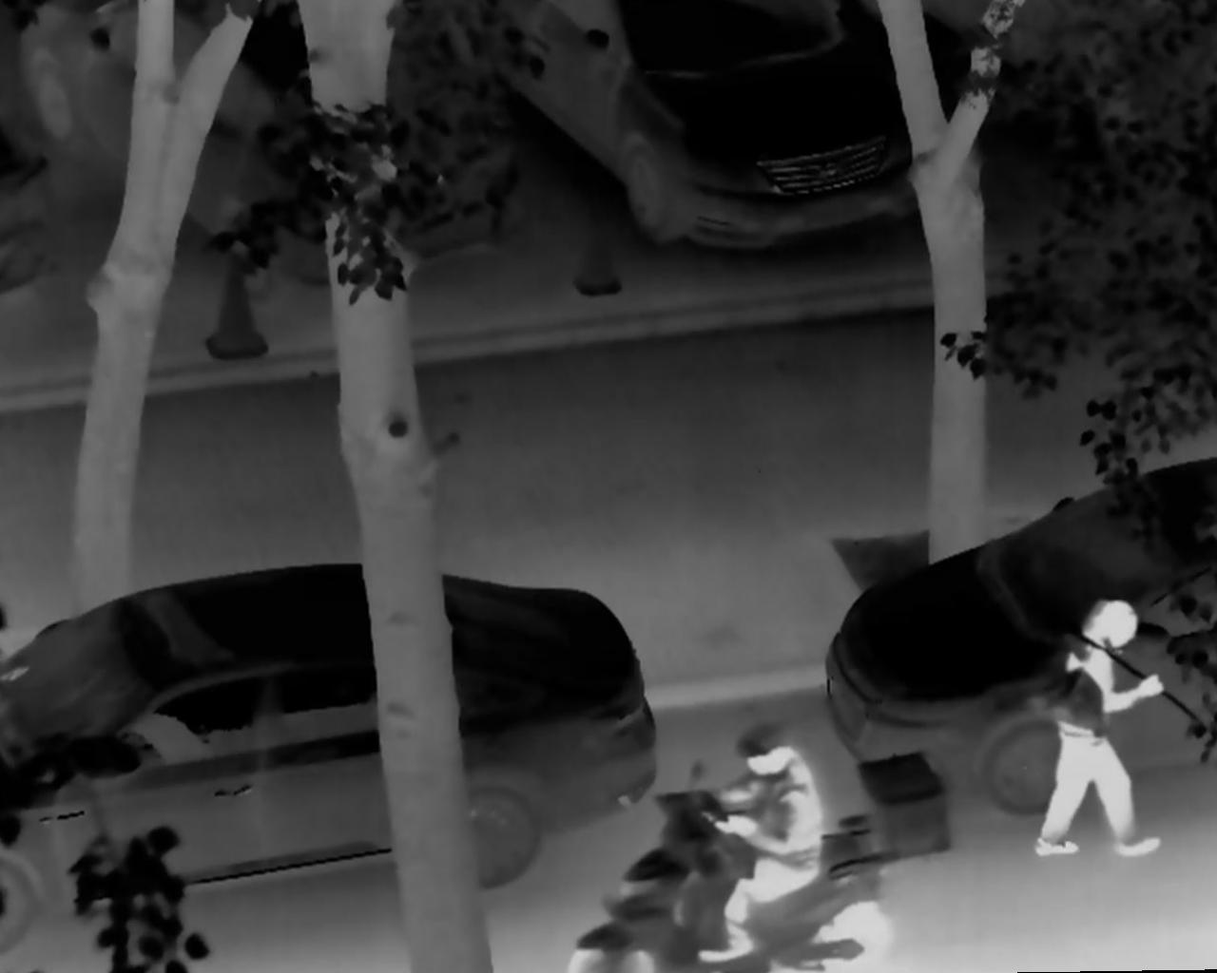person: (1033, 592, 1167, 868), (689, 715, 822, 965)
